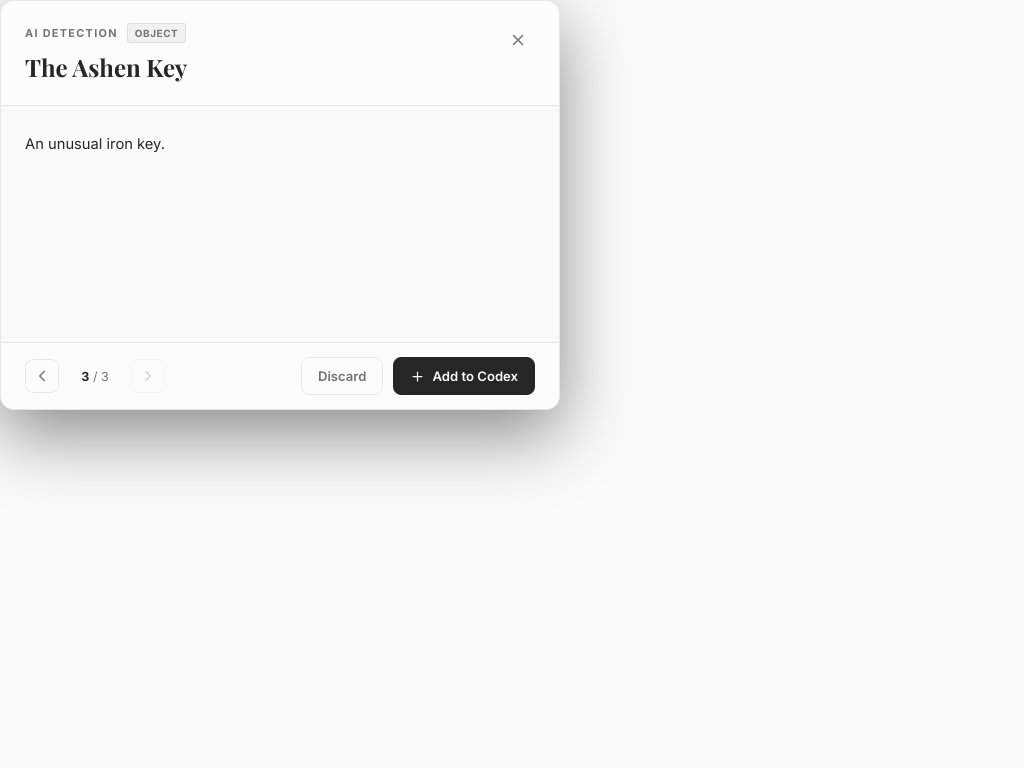
Test: CodexDetectionModalComponent › removes a discarded entry and clamps the final position
Click the button with class "discard-button".
click(342, 376)  # box [301, 357, 384, 395]
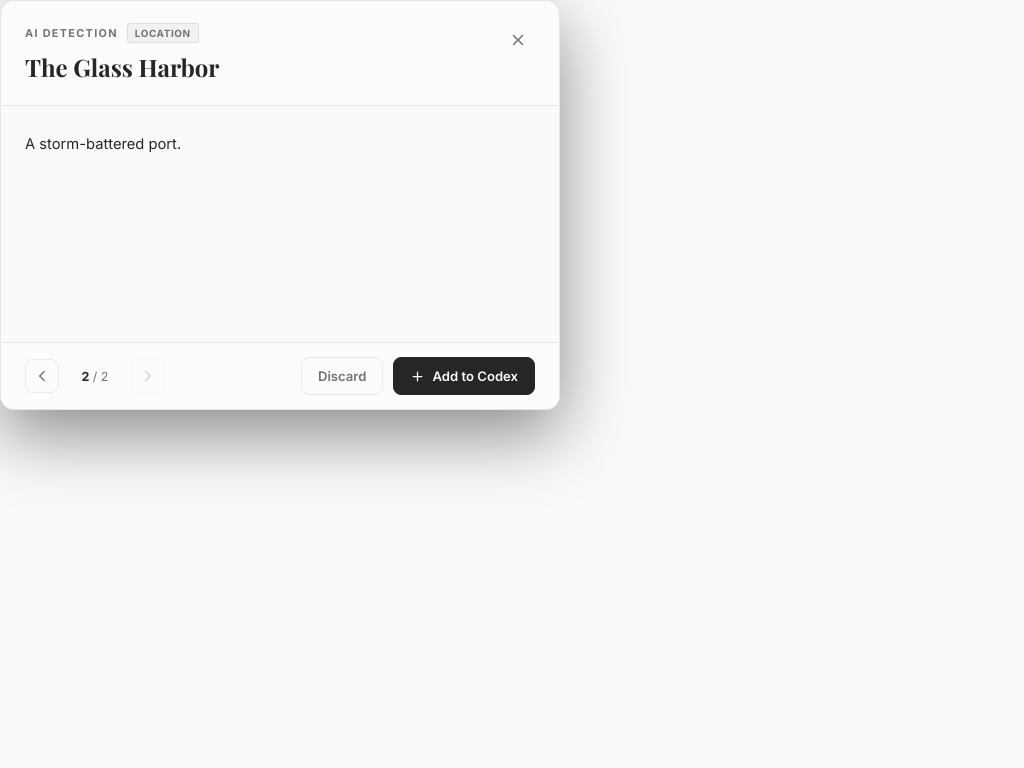
Expected: the text "The Glass Harbor" is shown, [25, 52, 220, 83]
